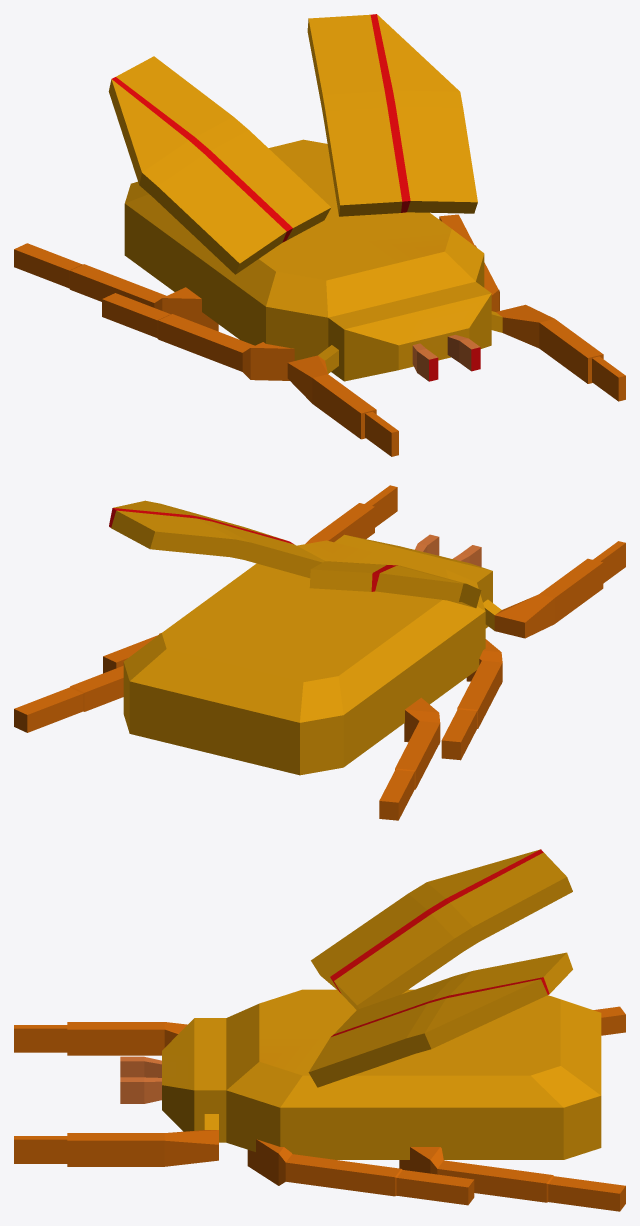
File: Scarab.fbx
The picture shows the model from 3 angles, top to bottom: view 1: azimuth 30°, elevation 25°; view 2: azimuth 150°, elevation 25°; view 3: azimuth 270°, elevation 25°; orthographic projection.
Visible parts, largest first — view 1: Cube.006; view 2: Cube.006; view 3: Cube.006.
Part boxes in pixels (x1,y1,x2,y2): Cube.006: (14,14,625,456); Cube.006: (14,485,625,820); Cube.006: (14,849,625,1211).
Size of the model in its own units: 1009 by 530 by 1394.
